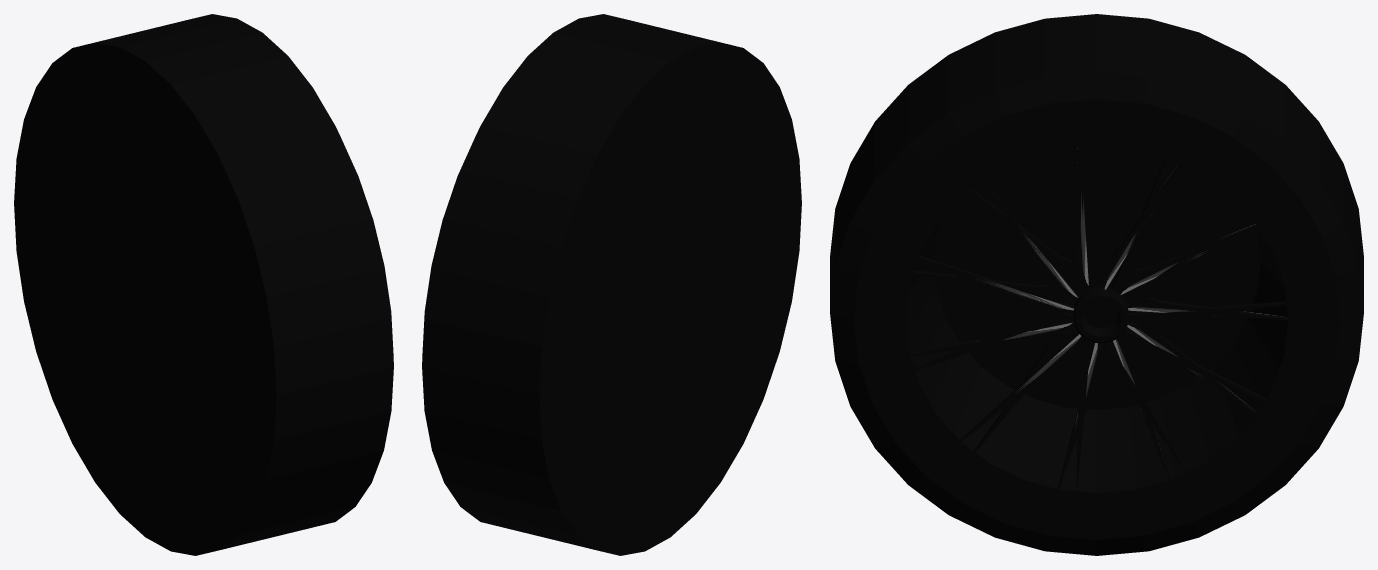
The model's file is wheel.fbx.
The picture shows the model from 3 angles, left to right: view 1: azimuth 30°, elevation 25°; view 2: azimuth 150°, elevation 25°; view 3: azimuth 270°, elevation 25°; orthographic projection.
Parts seen in each view (by area): view 1: FLW; view 2: FLW; view 3: FLW.
Boxes of the visible parts, x1,y1,x2,y2 form: FLW: [14, 14, 393, 555]; FLW: [422, 14, 801, 555]; FLW: [830, 14, 1363, 555].
Size of the model in its own units: 24.4 by 86.28 by 86.28.
1 material, 1 textured.
